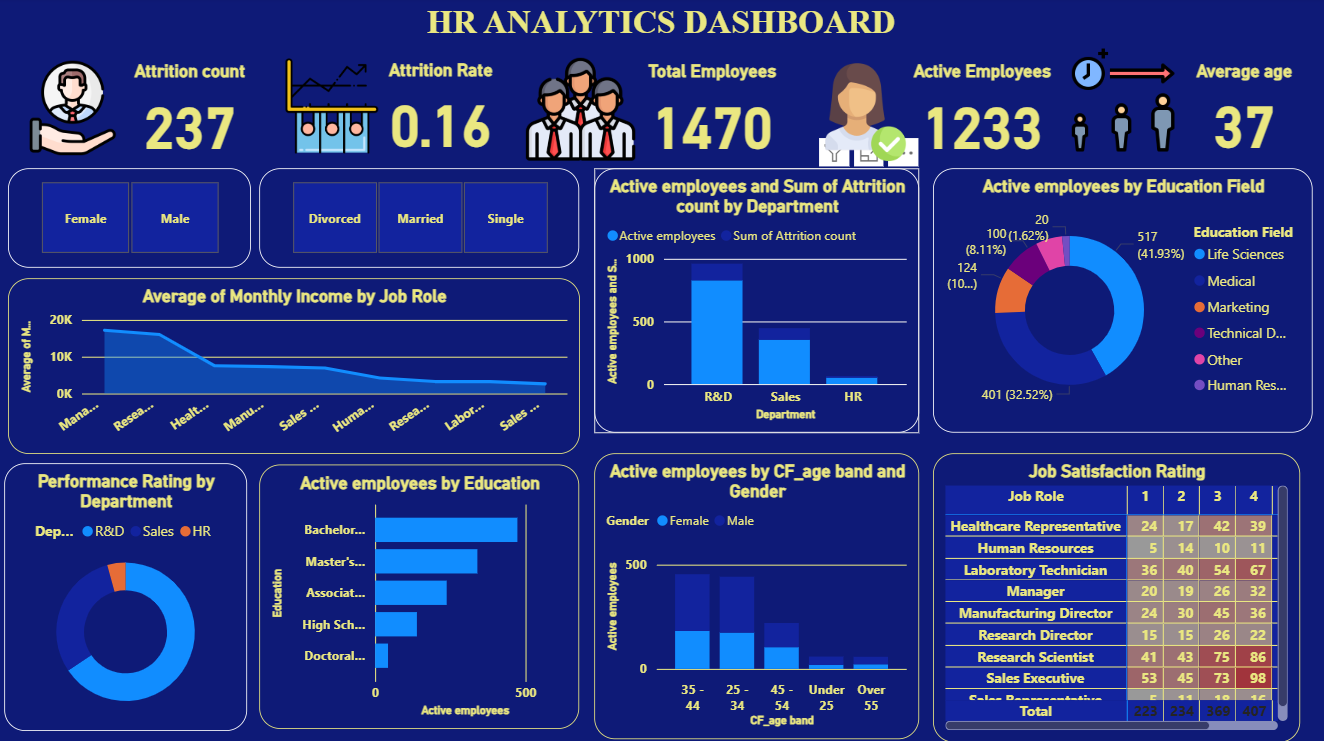

The dashboard page shown, as its layout file describes it:
{"tool":"powerbi","page":{"name":"Page 1","canvas":[1280,720],"ordinal":0},"visuals":[{"type":"card","title":"Total Employees","fields":{"Values":["Sum(HR data.Employee Count)"]},"box":[596,61.1,186.9,97.1],"z":0,"group":"g1"},{"type":"columnChart","fields":{"Category":["HR data.Department"],"Y":["HR data.Active employees","Sum(HR data.Attrition count)"]},"box":[575.1,165.5,313.9,255.1],"z":0},{"type":"card","title":"Attrition count","fields":{"Values":["Sum(HR data.Attrition count)"]},"box":[92,61.1,186.9,97.1],"z":1000,"group":"g1"},{"type":"donutChart","fields":{"Y":["HR data.Active employees"],"Category":["HR data.Education Field"]},"box":[902.6,165.5,366.7,255.1],"z":1000},{"type":"card","title":"Attrition Rate","fields":{"Values":["HR data.Attrition Rate"]},"box":[335,60.1,186.5,96.9],"z":2000,"group":"g1"},{"type":"columnChart","fields":{"Y":["HR data.Active employees"],"Category":["HR data.CF_age band"],"Series":["HR data.Gender"]},"box":[575.1,440.2,313.9,275.9],"z":2000},{"type":"card","title":"Active Employees","fields":{"Values":["HR data.Active employees"]},"box":[857.4,61.1,186.9,97.1],"z":3000,"group":"g1"},{"type":"pivotTable","title":"Job Satisfaction Rating","fields":{"Rows":["HR data.Job Role"],"Columns":["HR data.Job Satisfaction"],"Values":["HR data.Active employees"]},"box":[902.6,440.2,354.4,279.6],"z":3000},{"type":"card","title":"Average age","fields":{"Values":["Avg(HR data.Age)"]},"box":[1126,61.2,154.4,96.5],"z":4000,"group":"g1"},{"type":"donutChart","title":"Performance Rating by Department","fields":{"Y":["Sum(HR data.Performance Rating)"],"Category":["HR data.Department"]},"box":[6.1,450,234.2,258.7],"z":4000},{"type":"clusteredBarChart","fields":{"Category":["HR data.Education"],"Y":["HR data.Active employees"]},"box":[252.6,451.3,309,255.1],"z":5000},{"type":"areaChart","fields":{"Category":["HR data.Job Role"],"Y":["Avg(HR data.Monthly Income)"]},"box":[9.8,271,551.8,169.2],"z":6000},{"type":"slicer","fields":{"Values":["HR data.Gender"]},"box":[9.8,165.5,234.2,95.7],"z":7000},{"type":"slicer","fields":{"Values":["HR data.Marital Status"]},"box":[252.6,165.5,309,95.7],"z":8000},{"type":"group","id":"g1","title":"Group 1","box":[92,60.1,1188.4,98.1],"z":9000},{"type":"textbox","box":[0,0,1280.2,58.9],"z":10000},{"type":"image","box":[784.8,58.9,104.2,104.2],"z":11000},{"type":"image","box":[21.7,54.3,101.3,106.2],"z":12000},{"type":"image","box":[269.8,54,104.2,101.8],"z":13000},{"type":"image","box":[500.3,50.3,122.6,115.3],"z":14000},{"type":"image","box":[1029.1,43.4,113.4,112.2],"z":15000}]}

Visuals, with their boxes in screenshot pixels (x1, y1, x2, y2), scaled from the page's 1280x720 canvas onto the 1324x741 screenshot:
"Total Employees" card: [left=616, top=63, right=810, bottom=163]
columnChart - HR data.Department x HR data.Active employees: [left=595, top=170, right=920, bottom=433]
"Attrition count" card: [left=95, top=63, right=288, bottom=163]
donutChart - HR data.Active employees x HR data.Education Field: [left=934, top=170, right=1313, bottom=433]
"Attrition Rate" card: [left=347, top=62, right=539, bottom=162]
columnChart - HR data.Active employees x HR data.CF_age band: [left=595, top=453, right=920, bottom=737]
"Active Employees" card: [left=887, top=63, right=1080, bottom=163]
"Job Satisfaction Rating" pivotTable: [left=934, top=453, right=1300, bottom=740]
"Average age" card: [left=1165, top=63, right=1323, bottom=162]
"Performance Rating by Department" donutChart: [left=6, top=463, right=249, bottom=729]
clusteredBarChart - HR data.Education x HR data.Active employees: [left=261, top=464, right=581, bottom=727]
areaChart - HR data.Job Role x Avg(HR data.Monthly Income): [left=10, top=279, right=581, bottom=453]
slicer - HR data.Gender: [left=10, top=170, right=252, bottom=269]
slicer - HR data.Marital Status: [left=261, top=170, right=581, bottom=269]
"Group 1" group: [left=95, top=62, right=1323, bottom=163]
textbox: [left=0, top=0, right=1323, bottom=61]
image: [left=812, top=61, right=920, bottom=168]
image: [left=22, top=56, right=127, bottom=165]
image: [left=279, top=56, right=387, bottom=160]
image: [left=517, top=52, right=644, bottom=170]
image: [left=1064, top=45, right=1182, bottom=160]
